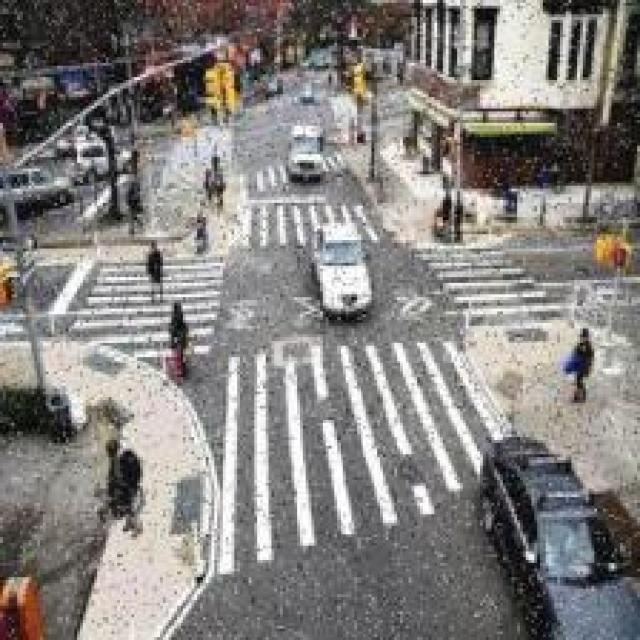crosswalk: (215, 333, 510, 586), (72, 258, 228, 364), (416, 234, 581, 334), (233, 198, 386, 252)
